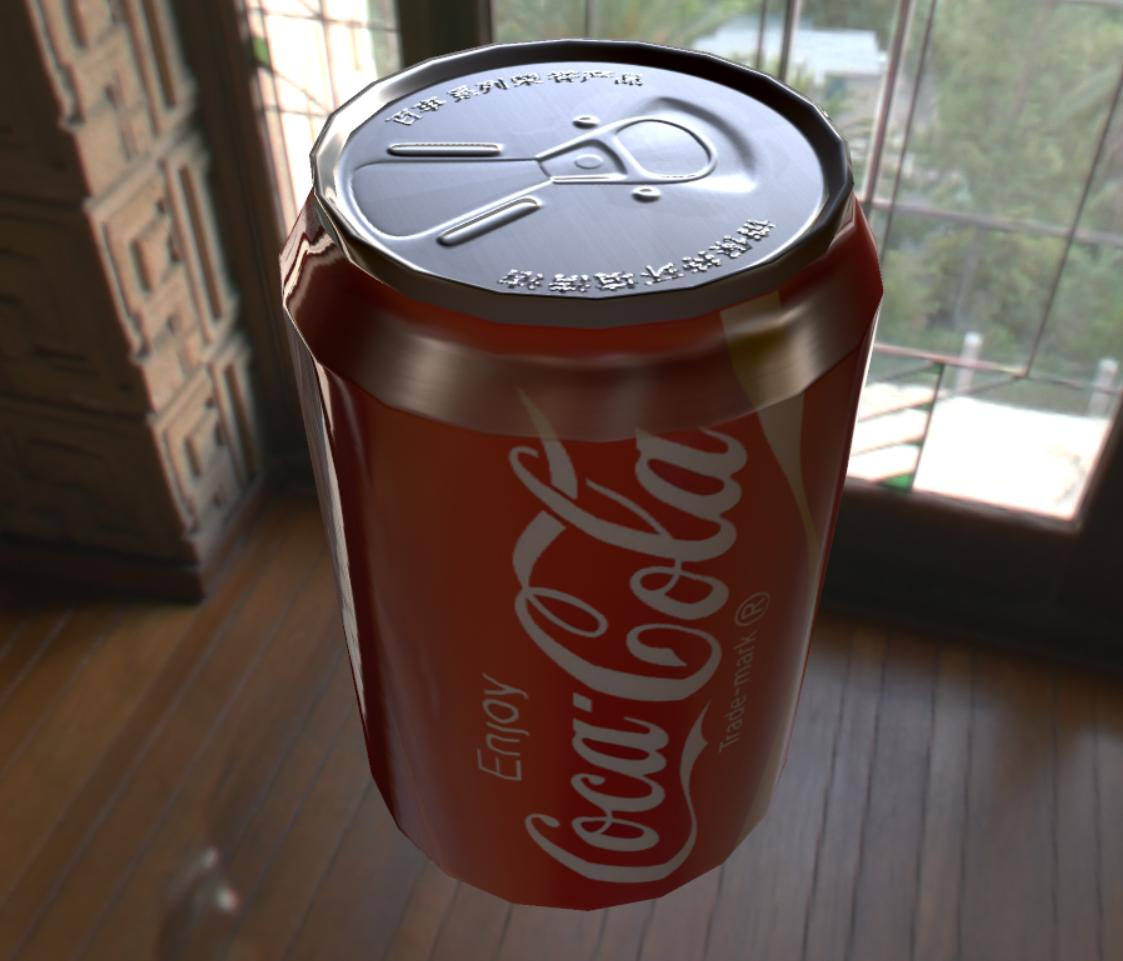metal: (283, 40, 881, 907)
